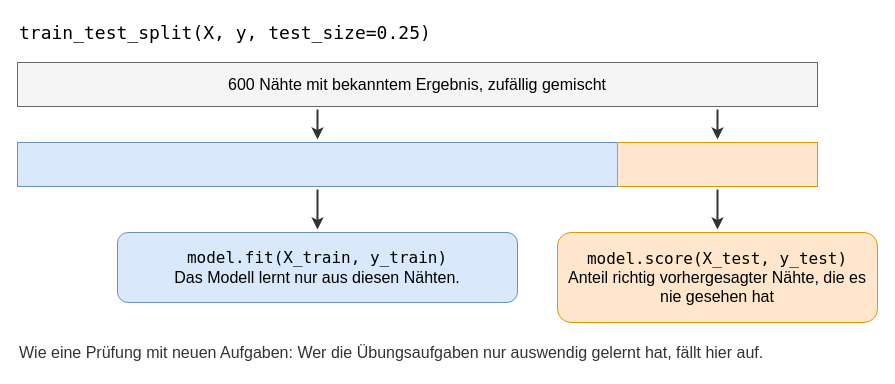
Some shapes in this 895 by 384 pixel diagram are drawn without their labels. Here are the shapes that lost their labels. From the top down, the box of each, then its label:
(16, 142, 618, 186): Training: 450 Nähte (75 %)
(616, 142, 818, 186): Test: 150 Nähte (25 %)
